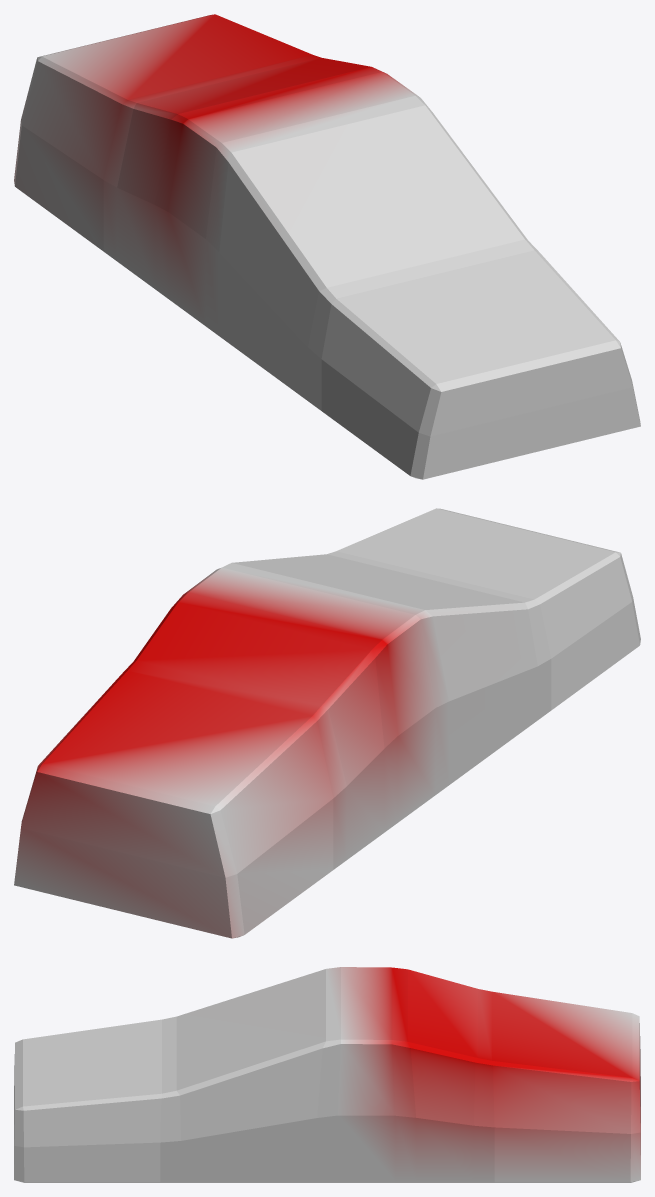
File: Carfixfix.fbx
3 renders of one model, top to bottom at view 1: azimuth 30°, elevation 25°; view 2: azimuth 150°, elevation 25°; view 3: azimuth 270°, elevation 25°, orthographic. The views are drawn at different scales.
Parts seen in each view (by area): view 1: Cube; view 2: Cube; view 3: Cube.
Boxes of the visible parts, bbox=[...] form: Cube: bbox=[14, 14, 640, 479]; Cube: bbox=[14, 508, 640, 938]; Cube: bbox=[14, 967, 640, 1182].
Size of the model in its own units: 0.6486 by 0.489 by 2.
